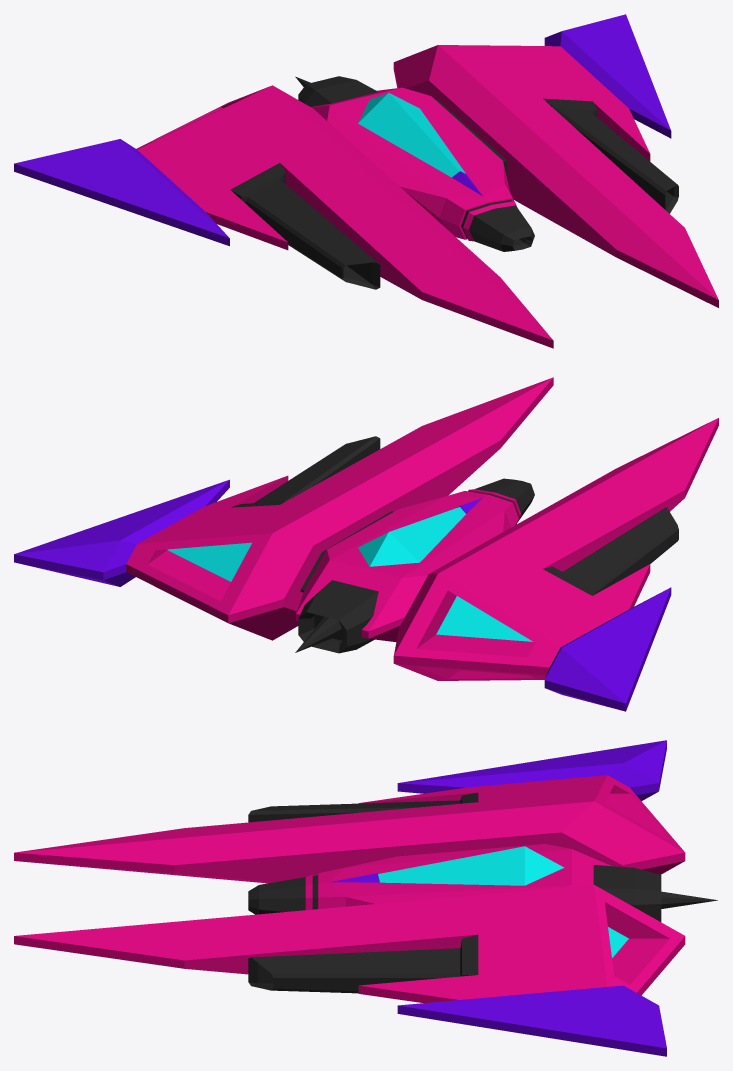
The model's file is starShip.fbx.
3 views of the same model, one above another, from view 1: azimuth 30°, elevation 25°; view 2: azimuth 150°, elevation 25°; view 3: azimuth 270°, elevation 25° (orthographic). The views are drawn at different scales.
Visible parts, largest first — view 1: pCone20; view 2: pCone20; view 3: pCone20.
Boxes of the visible parts, <box> form: pCone20: <box>14,14,718,348</box>; pCone20: <box>14,377,718,711</box>; pCone20: <box>14,740,717,1056</box>.
Bounding box in the file's own units: 7.4 × 1.24 × 7.15.
